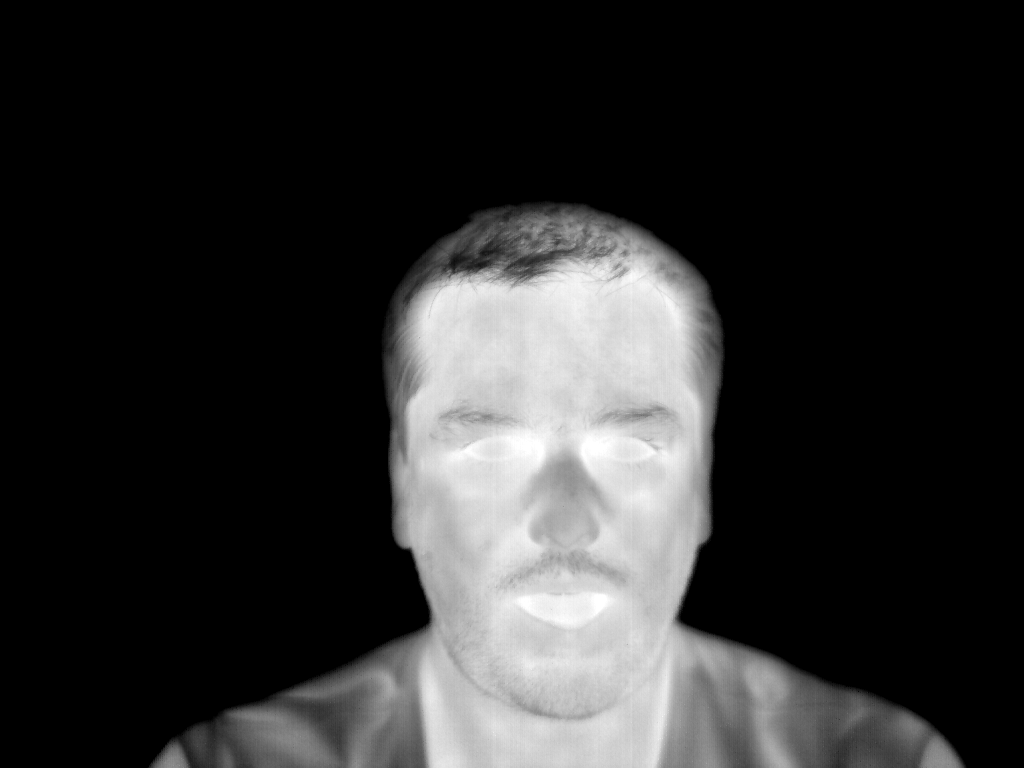face: (415, 279, 697, 717)
